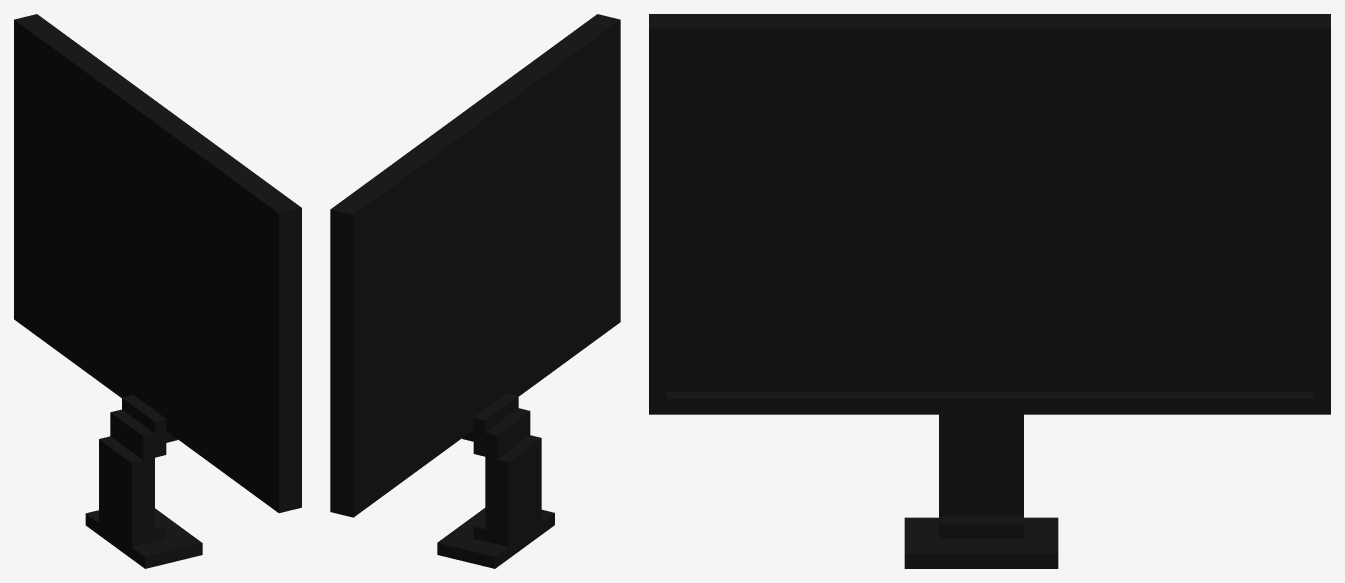
Rendered from Monitor.obj.
3 renders of one model, left to right at view 1: azimuth 30°, elevation 25°; view 2: azimuth 150°, elevation 25°; view 3: azimuth 270°, elevation 25°, orthographic. The views are drawn at different scales.
Bounding box in the file's own units: 0.5 × 3.5 × 4.
Materials: 1 (1 with a texture image).
